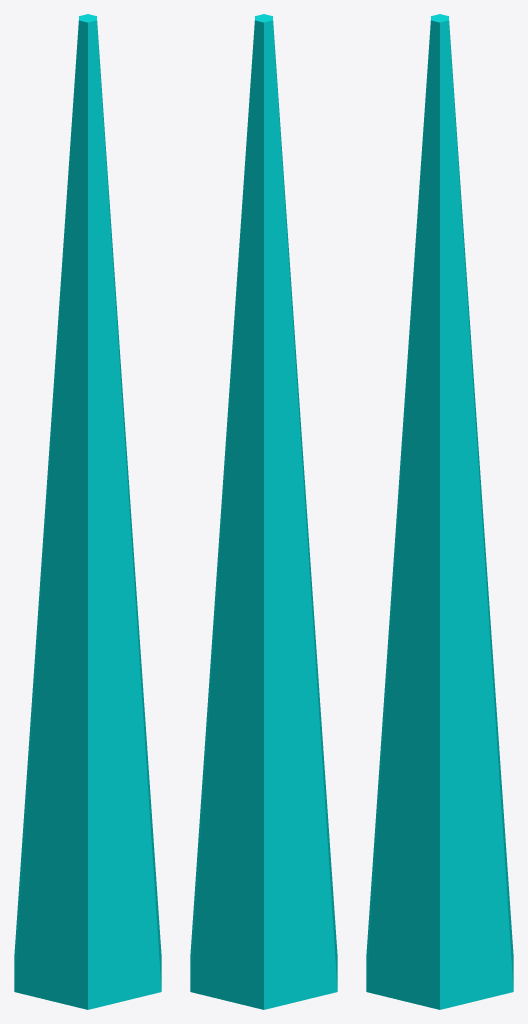
File: SM_Env_Tree_Thin_02_Collision.fbx
The picture shows the model from 3 angles, left to right: view 1: azimuth 30°, elevation 25°; view 2: azimuth 150°, elevation 25°; view 3: azimuth 270°, elevation 25°; orthographic projection.
Parts seen in each view (by area): view 1: SM_Env_Tree_Thin_02_Collision; view 2: SM_Env_Tree_Thin_02_Collision; view 3: SM_Env_Tree_Thin_02_Collision.
Boxes of the visible parts, x1,y1,x2,y2 form: SM_Env_Tree_Thin_02_Collision: [14, 14, 161, 1009]; SM_Env_Tree_Thin_02_Collision: [190, 14, 337, 1009]; SM_Env_Tree_Thin_02_Collision: [366, 14, 513, 1009].
Size of the model in its own units: 80.15 by 497 by 69.41.
